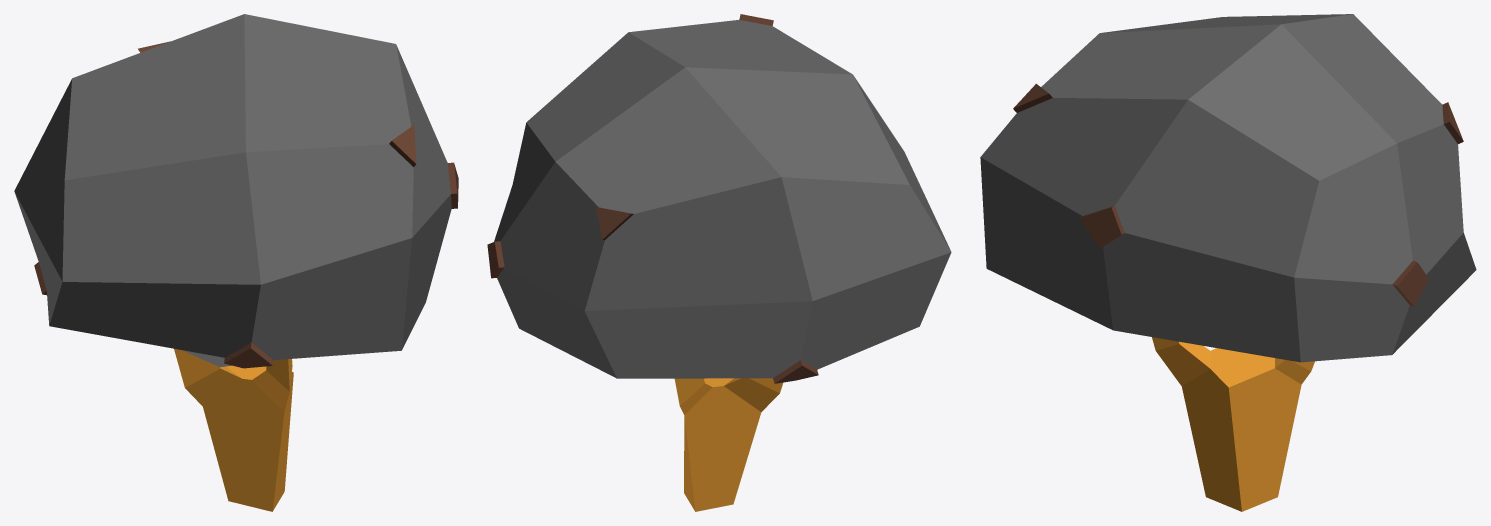
Rendered from bush_2.obj.
3 renders of one model, left to right at view 1: azimuth 30°, elevation 25°; view 2: azimuth 150°, elevation 25°; view 3: azimuth 270°, elevation 25°, orthographic. The views are drawn at different scales.
Visible parts, largest first — view 1: bush_2; view 2: bush_2; view 3: bush_2.
Boxes of the visible parts, x1,y1,x2,y2 form: bush_2: [14, 14, 458, 511]; bush_2: [487, 14, 951, 511]; bush_2: [980, 14, 1476, 511].
Bounding box in the file's own units: 3.32 × 3.55 × 3.34.
